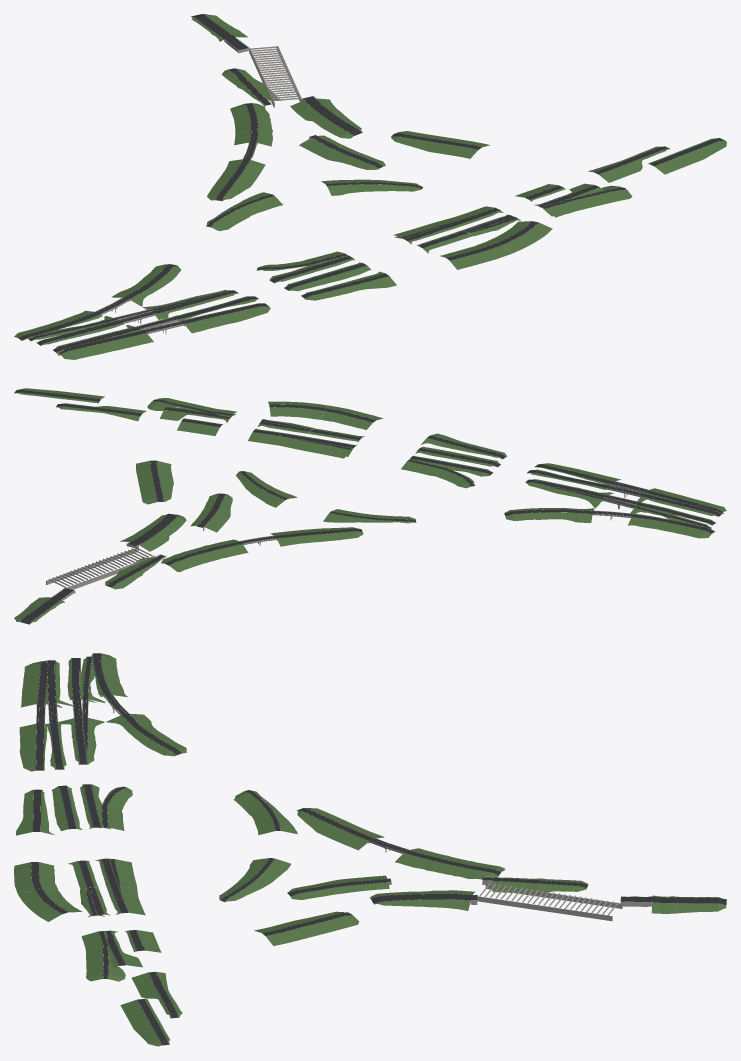
Rendered from br_h27_calgary_trail_2.gltf.
The picture shows the model from 3 angles, top to bottom: view 1: azimuth 30°, elevation 25°; view 2: azimuth 150°, elevation 25°; view 3: azimuth 270°, elevation 25°; orthographic projection. The views are drawn at different scales.
Parts seen in each view (by area): view 1: br_h27_calgary_trail_2; view 2: br_h27_calgary_trail_2; view 3: br_h27_calgary_trail_2.
Part boxes in pixels (<box>): br_h27_calgary_trail_2: <box>14,14,726,359</box>; br_h27_calgary_trail_2: <box>14,388,726,624</box>; br_h27_calgary_trail_2: <box>14,653,726,1046</box>.
Size of the model in its own units: 1308 by 17.97 by 1010.
